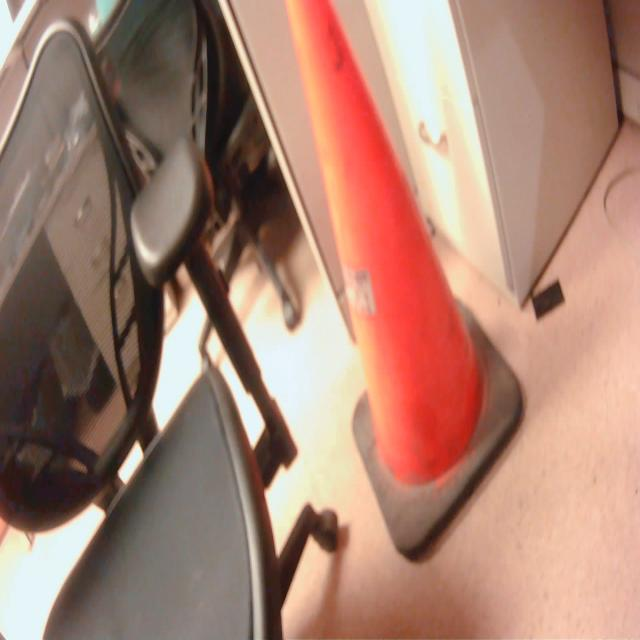traffic cone: (281, 1, 531, 575)
